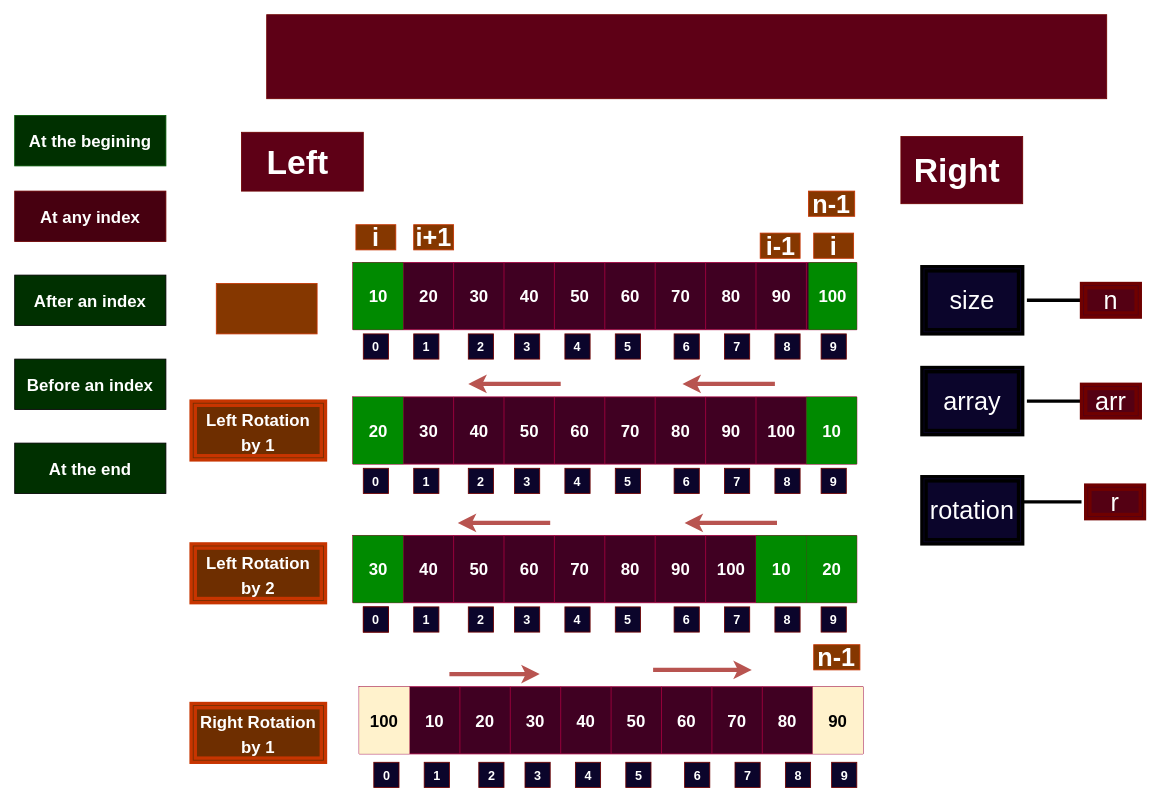
Some shapes in this 1161 by 802 pixel diagram are drawn without their labels. Each missing label, with the box of its shape:
arr[10]: (215, 283, 317, 334)
Data Structure and Algorithm | Array Rotation: (266, 14, 1107, 99)
